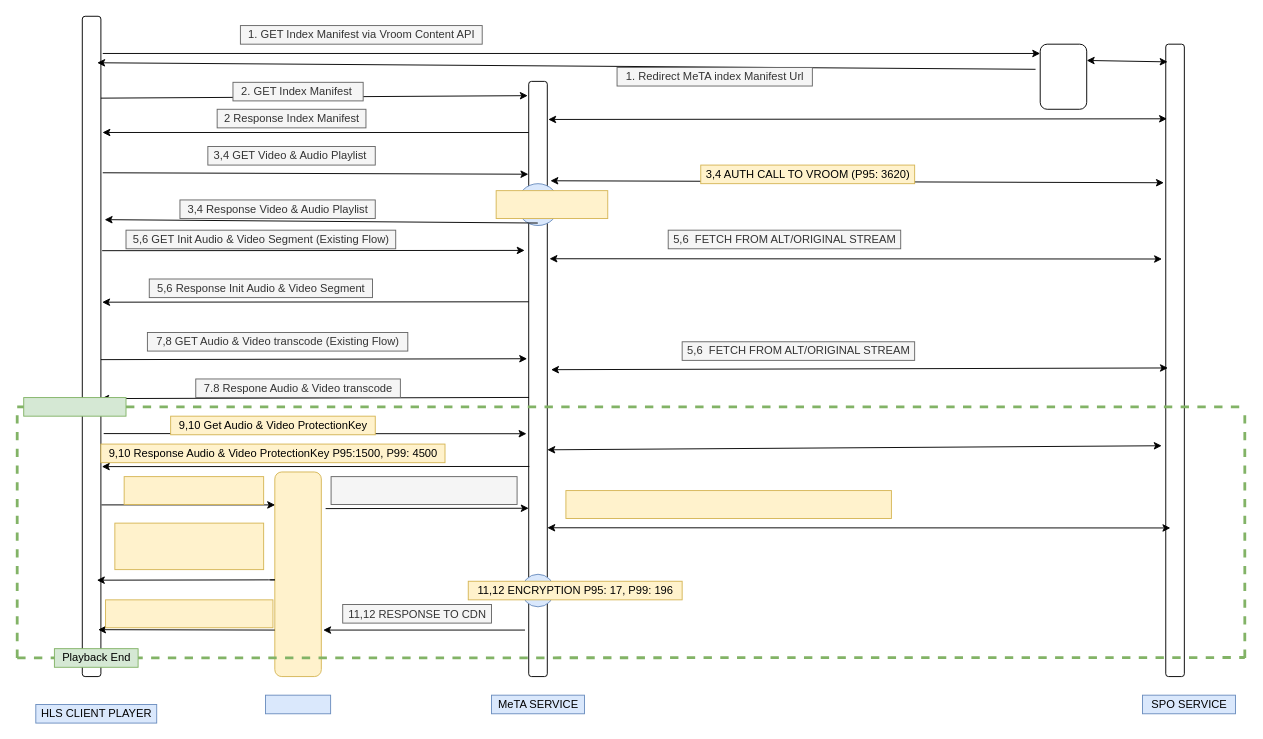
Image size: 1263x739. Some labels were removed from this diagram. The shapes that lost their labels are listed below. From the top down, each one's centre as x and y in pixels, then its label:
At (1063,76): "Vroom".
At (551,204): "3,4 URL SIGNING P95: 28, P99: 36".
At (74,406): "Playback Started".
At (193,490): "11,12 Get Audio & Video transcode".
At (423,490): "11,12 B MISS CASE: FETCH CONTENT FROM ORIGIN".
At (728,504): "11,12 FETCH ALT/ORIGINAL STREAM (WITH CRYPTO-KEY) FROM SPO".
At (189,546): "11,12 A HIT CASE CONTENT SERVED FROM CDN".
At (297,574): "CDN".
At (189,613): "11,12 Response Audio & Video (CDN MISS CASE)".
At (298,704): "AFD CDN".
